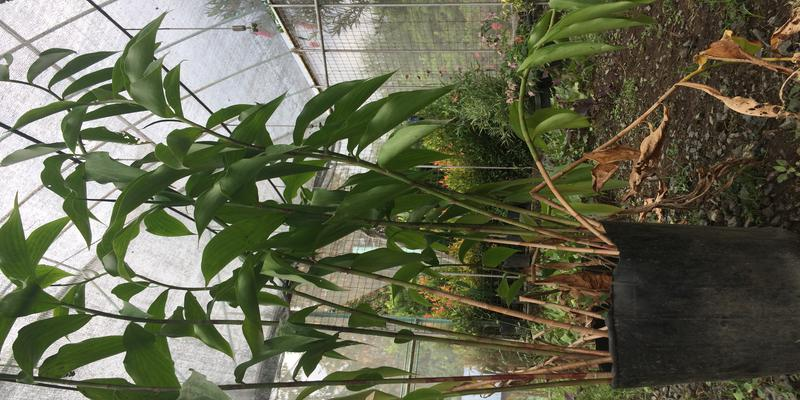Insulin: (32, 72, 609, 390)
